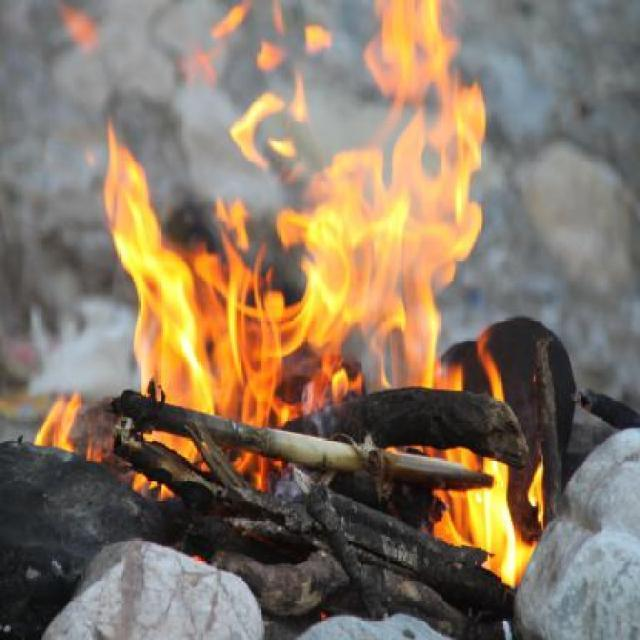Fire: (100, 1, 489, 398), (443, 444, 528, 586), (36, 388, 82, 454)
